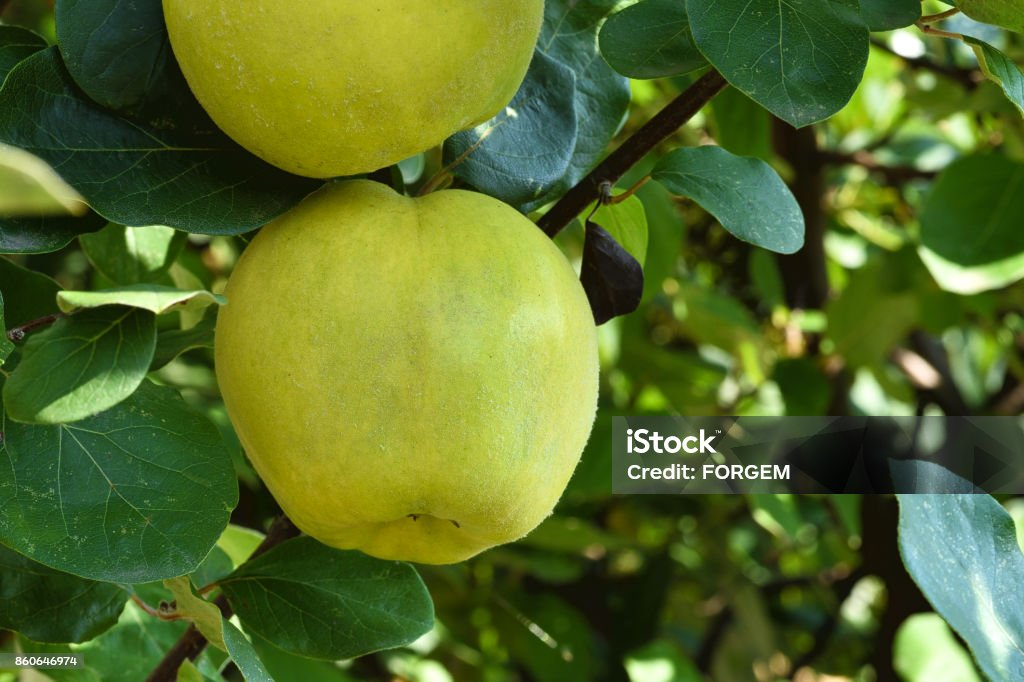apple/: (217, 195, 606, 581)
